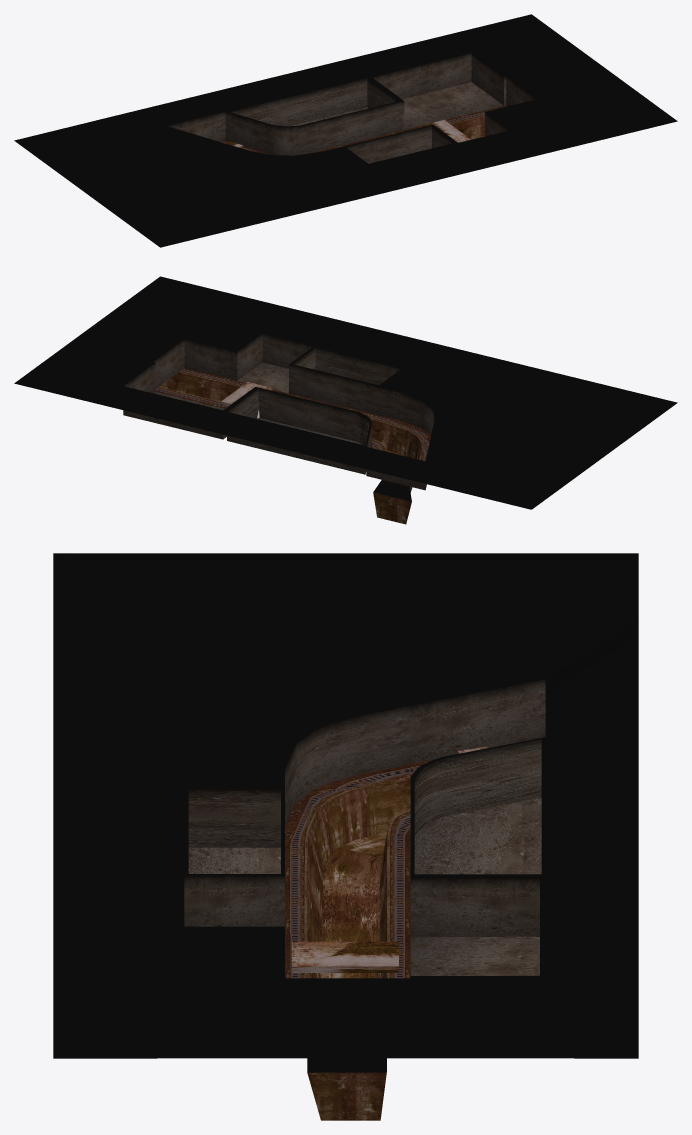
File: mod_basement.fbx
3 renders of one model, top to bottom at view 1: azimuth 30°, elevation 25°; view 2: azimuth 150°, elevation 25°; view 3: azimuth 270°, elevation 25°, orthographic. The views are drawn at different scales.
Parts seen in each view (by area): view 1: pPlane4; view 2: pPlane4; view 3: pPlane4.
Part boxes in pixels (<box>): pPlane4: <box>14,14,677,247</box>; pPlane4: <box>14,276,677,524</box>; pPlane4: <box>53,553,638,1120</box>.
Size of the model in its own units: 238 by 23.47 by 117.
Materials: 1 (1 with a texture image).
